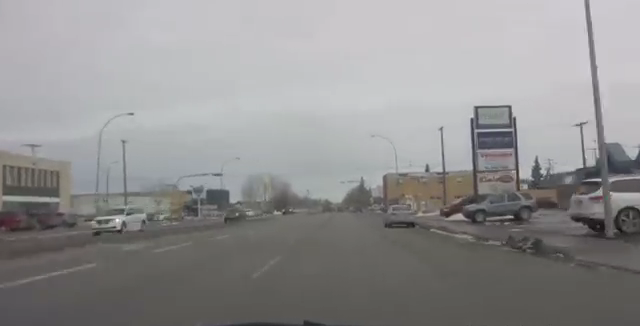car: (566, 176, 640, 236), (463, 191, 537, 223), (90, 205, 148, 235), (439, 194, 494, 219), (381, 203, 416, 228), (222, 208, 246, 223), (281, 204, 293, 214)
